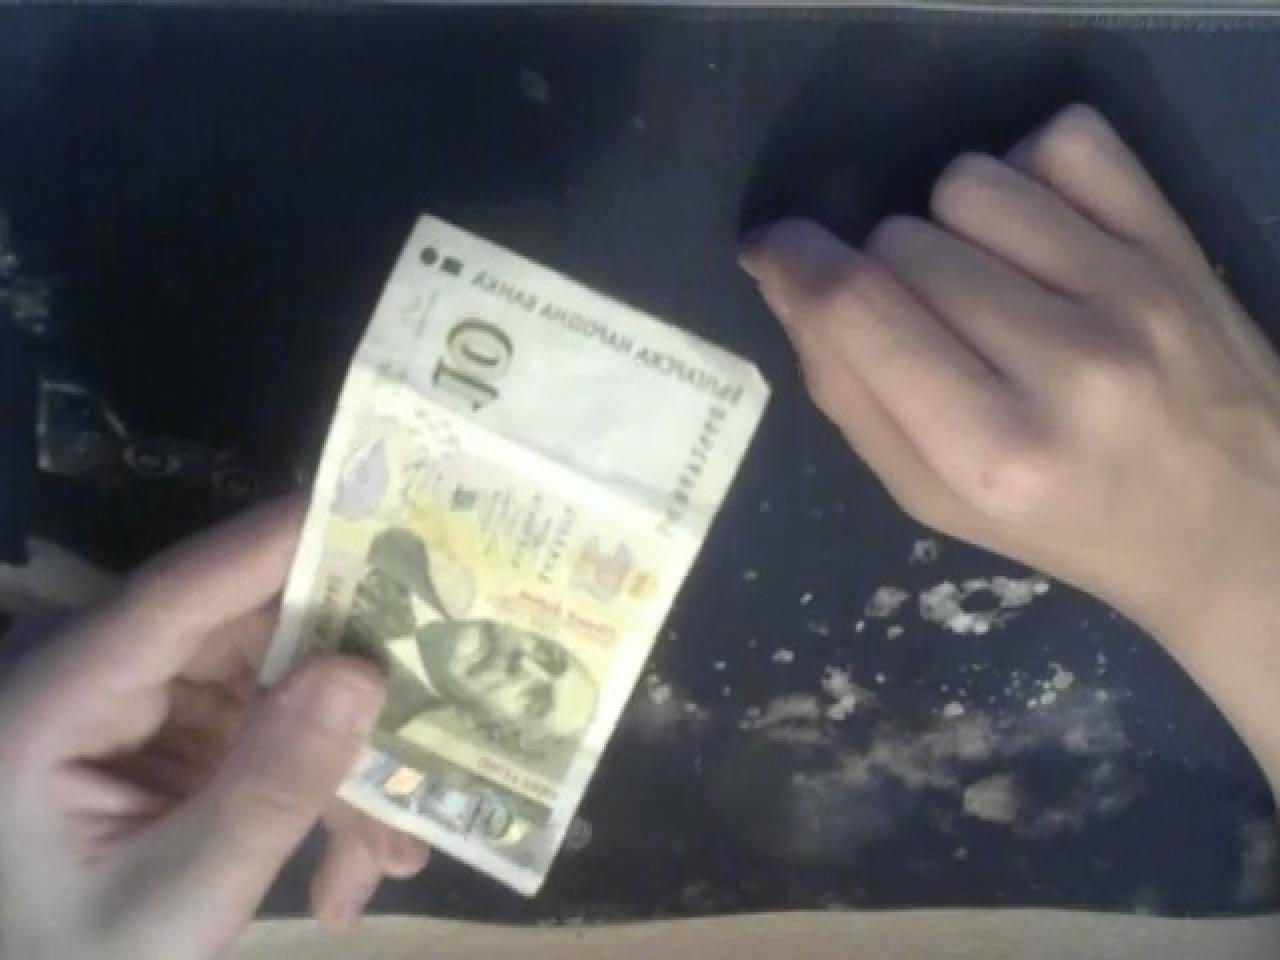10leva: (256, 208, 774, 896)
